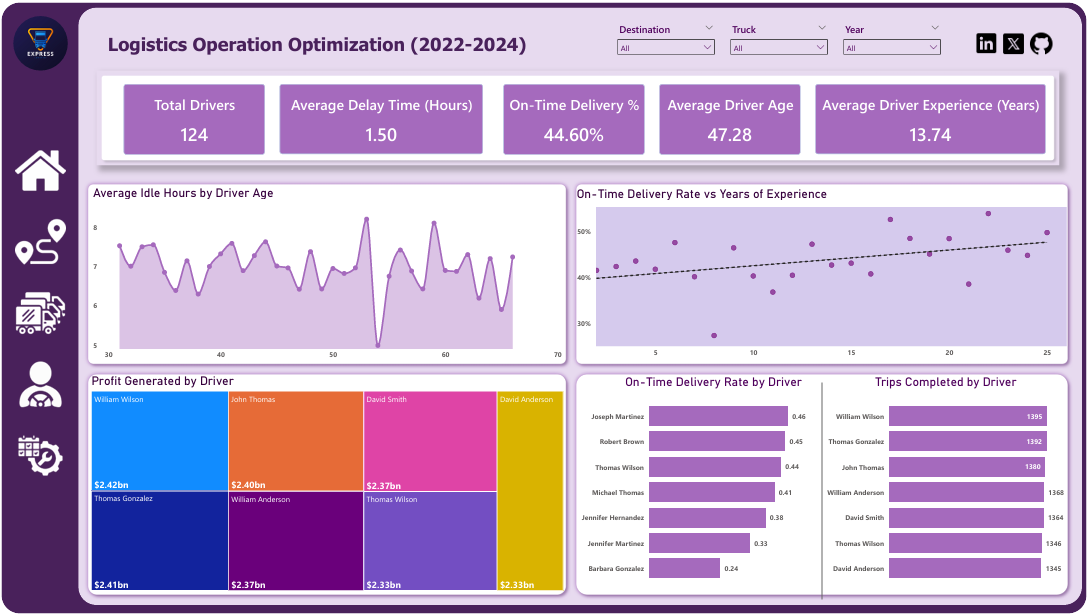

The page's visual inventory and layout, read from the dashboard file:
{"tool":"powerbi","page":{"name":"Driver Insights","canvas":[1920,1080],"ordinal":3},"visuals":[{"type":"shape","box":[0,0,1920,1080],"z":0},{"type":"shape","box":[168,120,1704,168],"z":0,"group":"g9"},{"type":"card","title":"Total Drivers","fields":{"Values":["Count(logistics_data.driver_id)"]},"box":[216,144,250,124.6],"z":6,"group":"g1"},{"type":"card","title":"Average Delay Time (Hours)","fields":{"Values":["Avg(logistics_data.delay_hours)"]},"box":[492,144,360,124],"z":6,"group":"g2"},{"type":"card","title":"On-Time Delivery %","fields":{"Values":["Avg(logistics_data.on_time_delivery_rate)"]},"box":[888,144,250,124.6],"z":6,"group":"g3"},{"type":"card","title":"Average Driver Age","fields":{"Values":["Avg(logistics_data.Driver_Age)"]},"box":[1164,144,250,124.6],"z":6,"group":"g5"},{"type":"card","title":"Average Driver Experience (Years)","fields":{"Values":["Avg(logistics_data.years_experience)"]},"box":[1440,144,408,124],"z":6,"group":"g6"},{"type":"shape","box":[136,9,1776,1056],"z":1000},{"type":"group","id":"g1","title":"Group 1","box":[216,144,240,120],"z":1000,"group":"g9"},{"type":"shape","box":[144,312,864,336],"z":1000,"group":"g10"},{"type":"shape","box":[1008,312,888,336],"z":1000,"group":"g8"},{"type":"shape","box":[144,648,864,408],"z":1000,"group":"g4"},{"type":"group","id":"g2","title":"Group 1","box":[492,144,360,124],"z":2000,"group":"g9"},{"type":"shape","box":[1008,648,888,408],"z":2000},{"type":"group","id":"g3","title":"Group 1","box":[888,144,240,120],"z":3000,"group":"g9"},{"type":"group","id":"g4","title":"Group 3","box":[144,648,864,408],"z":3000},{"type":"shape","box":[1008,672,888,382.6],"z":3000,"group":"g7"},{"type":"textbox","box":[182.5,47.5,805,80],"z":4000},{"type":"group","id":"g5","title":"Group 1","box":[1164,144,240,120],"z":4000,"group":"g9"},{"type":"image","box":[1765.6,48,50,50],"z":5000},{"type":"group","id":"g6","title":"Group 1","box":[1440,144,408,124],"z":5000,"group":"g9"},{"type":"image","box":[1814.6,48,50,50],"z":6000},{"type":"image","box":[1718.6,48,48,48],"z":7000},{"type":"image","box":[21,24,96,96],"z":8000},{"type":"image","box":[24,252,90,90],"z":9000},{"type":"image","box":[24,504,90,90],"z":10000},{"type":"image","box":[24,630,90,90],"z":11000},{"type":"barChart","title":"Trips Completed by Driver","fields":{"Category":["logistics_data.Driver_name"],"Y":["CountNonNull(logistics_data.trip_id)"]},"box":[1455,658,432,384],"z":11000,"group":"g7"},{"type":"image","box":[24,756,90,90],"z":12000},{"type":"image","box":[24,378,90,90],"z":13000},{"type":"clusteredBarChart","title":"On-Time Delivery Rate by Driver","fields":{"Category":["logistics_data.Driver_name"],"Y":["Avg(logistics_data.driver_monthly_metrics.on_time_delivery_rate)"]},"box":[1020,658,480,384],"z":13000,"group":"g7"},{"type":"slicer","fields":{"Values":["logistics_data.dispatch_date.Variation.Date Hierarchy.Year"]},"box":[1480,30,192,72],"z":14000},{"type":"slicer","fields":{"Values":["logistics_data.Truck"]},"box":[1280,30,192,72],"z":15000},{"type":"slicer","fields":{"Values":["logistics_data.destination_state"]},"box":[1080,30,192,72],"z":16000},{"type":"treemap","title":"Profit Generated by Driver","fields":{"Values":["Sum(logistics_data.profit)"],"Group":["logistics_data.Driver_name"]},"box":[154,657,845,387],"z":17000},{"type":"group","id":"g7","title":"Group 1","box":[1008,658,888,396.6],"z":18000},{"type":"group","id":"g8","title":"Group 4","box":[1008,312,888,336],"z":19000},{"type":"group","id":"g9","title":"Group 6","box":[168,120,1704,168],"z":20000},{"type":"group","id":"g10","title":"Group 4","box":[144,312,864,336],"z":21000},{"type":"lineChart","title":"Average Idle Hours by Driver Age","fields":{"Category":["logistics_data.Driver_Age"],"Y":["Avg(logistics_data.driver_monthly_metrics.average_idle_hours)"]},"box":[157,323,842,317],"z":22000},{"type":"scatterChart","title":"On-Time Delivery Rate vs Years of Experience","fields":{"X":["logistics_data.years_experience"],"Y":["Avg(logistics_data.driver_monthly_metrics.on_time_delivery_rate)"]},"box":[1013,325,884,312],"z":23000}]}

Visuals, with their boxes in screenshot pixels (x1, y1, x2, y2), scaled from the page's 1920x1080 canvas onto the 1089x615 screenshot:
shape: (0,0,1088,614)
shape: (95,68,1062,164)
"Total Drivers" card: (123,82,264,153)
"Average Delay Time (Hours)" card: (279,82,483,153)
"On-Time Delivery %" card: (504,82,645,153)
"Average Driver Age" card: (660,82,802,153)
"Average Driver Experience (Years)" card: (817,82,1048,153)
shape: (77,5,1084,606)
"Group 1" group: (123,82,259,150)
shape: (82,178,572,369)
shape: (572,178,1075,369)
shape: (82,369,572,601)
"Group 1" group: (279,82,483,153)
shape: (572,369,1075,601)
"Group 1" group: (504,82,640,150)
"Group 3" group: (82,369,572,601)
shape: (572,383,1075,601)
textbox: (104,27,560,73)
"Group 1" group: (660,82,796,150)
image: (1001,27,1030,56)
"Group 1" group: (817,82,1048,153)
image: (1029,27,1058,56)
image: (975,27,1002,55)
image: (12,14,66,68)
image: (14,144,65,195)
image: (14,287,65,338)
image: (14,359,65,410)
"Trips Completed by Driver" barChart: (825,375,1070,593)
image: (14,430,65,482)
image: (14,215,65,266)
"On-Time Delivery Rate by Driver" clusteredBarChart: (579,375,851,593)
slicer - logistics_data.dispatch_date.Variation.Date Hierarchy.Year: (839,17,948,58)
slicer - logistics_data.Truck: (726,17,835,58)
slicer - logistics_data.destination_state: (613,17,721,58)
"Profit Generated by Driver" treemap: (87,374,567,594)
"Group 1" group: (572,375,1075,601)
"Group 4" group: (572,178,1075,369)
"Group 6" group: (95,68,1062,164)
"Group 4" group: (82,178,572,369)
"Average Idle Hours by Driver Age" lineChart: (89,184,567,364)
"On-Time Delivery Rate vs Years of Experience" scatterChart: (575,185,1076,363)
